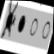correct: (15, 13, 27, 35)
not correct: (0, 0, 20, 42)
